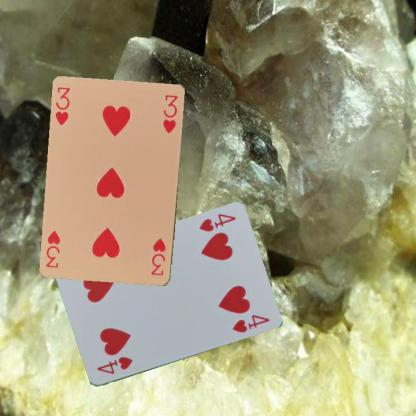3h: (52, 84, 72, 127), (148, 236, 167, 277)
4h: (196, 211, 237, 233), (94, 354, 134, 376)
